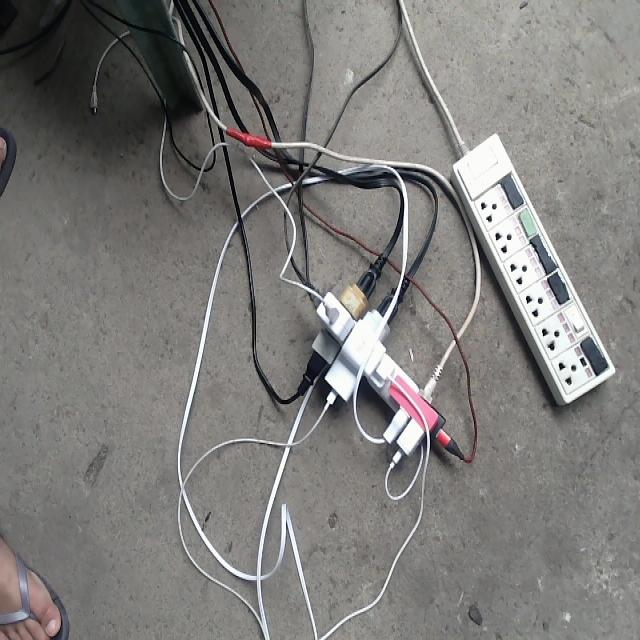-: (296, 283, 443, 457)
